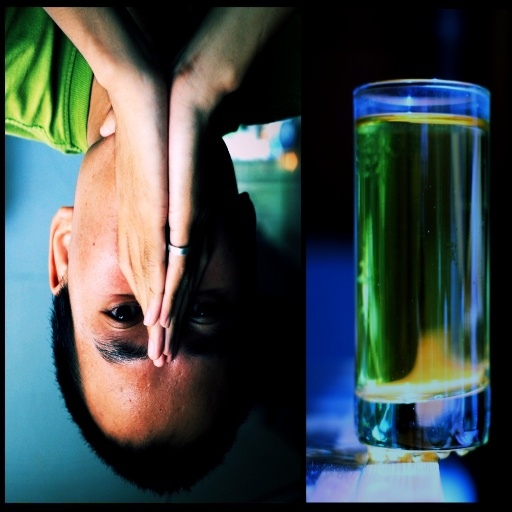hand: (49, 59, 190, 413), (157, 62, 220, 362)
